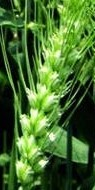Healthy Wheat: (21, 19, 80, 179)
